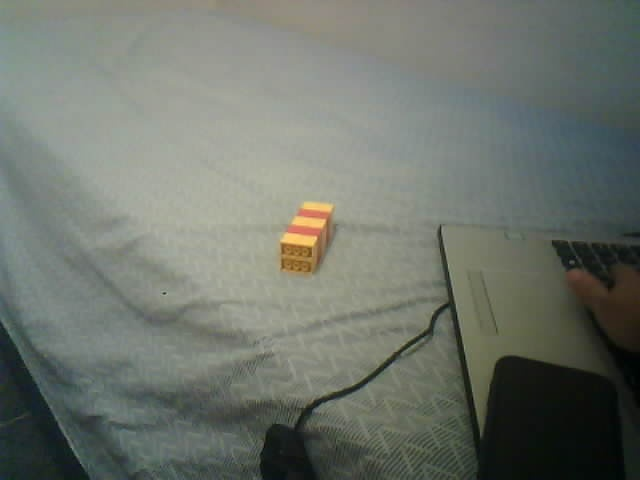lego: (278, 201, 335, 276)
